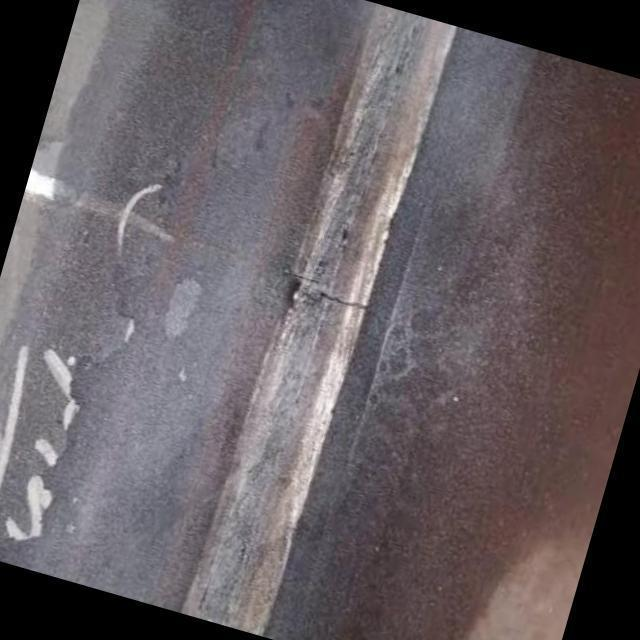defect: (316, 289, 371, 316)
